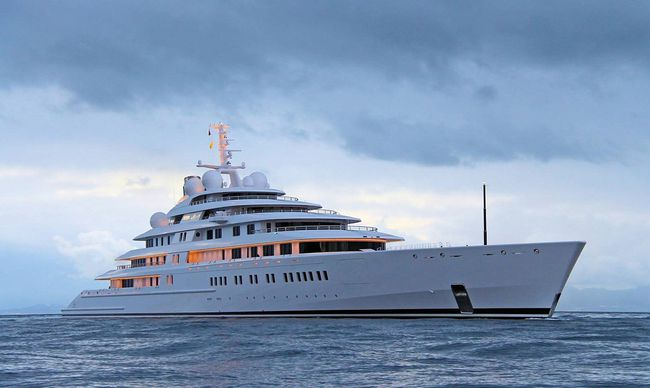yacht: (55, 122, 579, 318)
